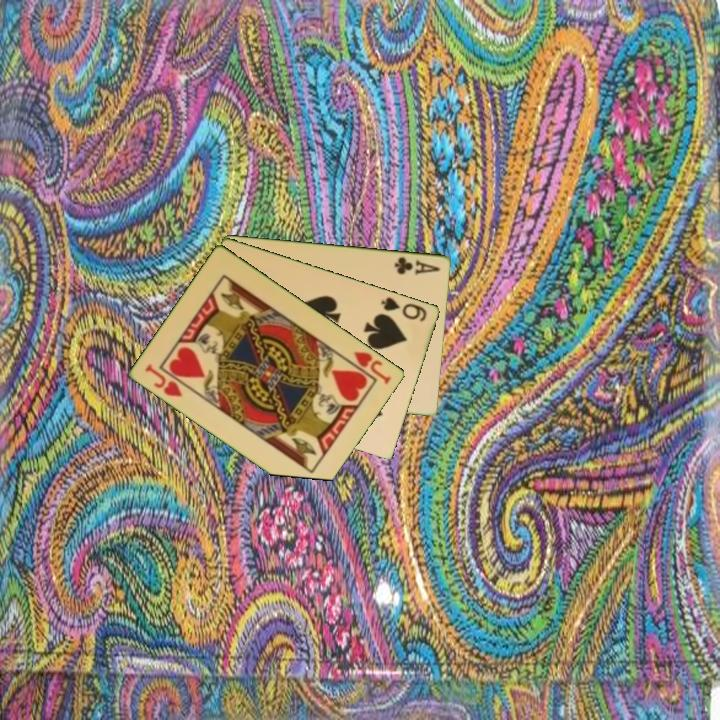6s: (378, 293, 430, 324)
Ac: (391, 253, 443, 278)
Jh: (342, 348, 394, 387), (142, 360, 186, 400)
